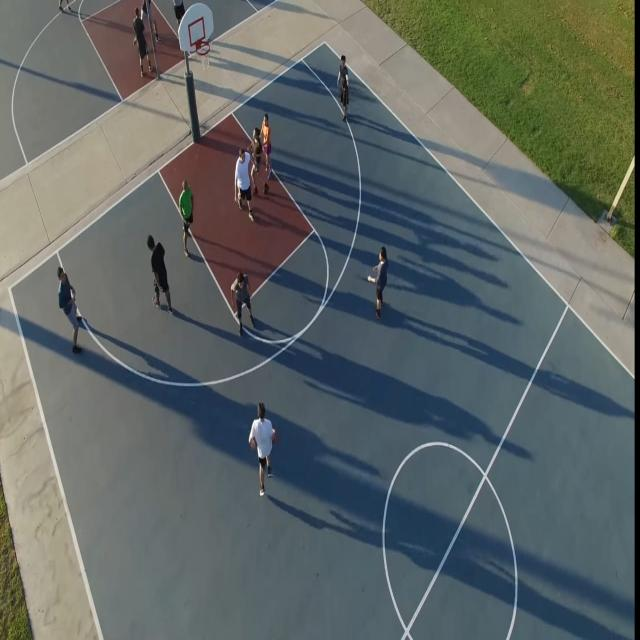humans: (53, 258, 87, 355), (246, 402, 279, 498), (144, 230, 176, 316), (231, 144, 260, 224), (229, 264, 259, 339), (364, 245, 392, 323), (176, 178, 200, 259), (132, 7, 154, 83), (337, 52, 352, 128), (250, 123, 264, 198), (261, 110, 273, 186)
